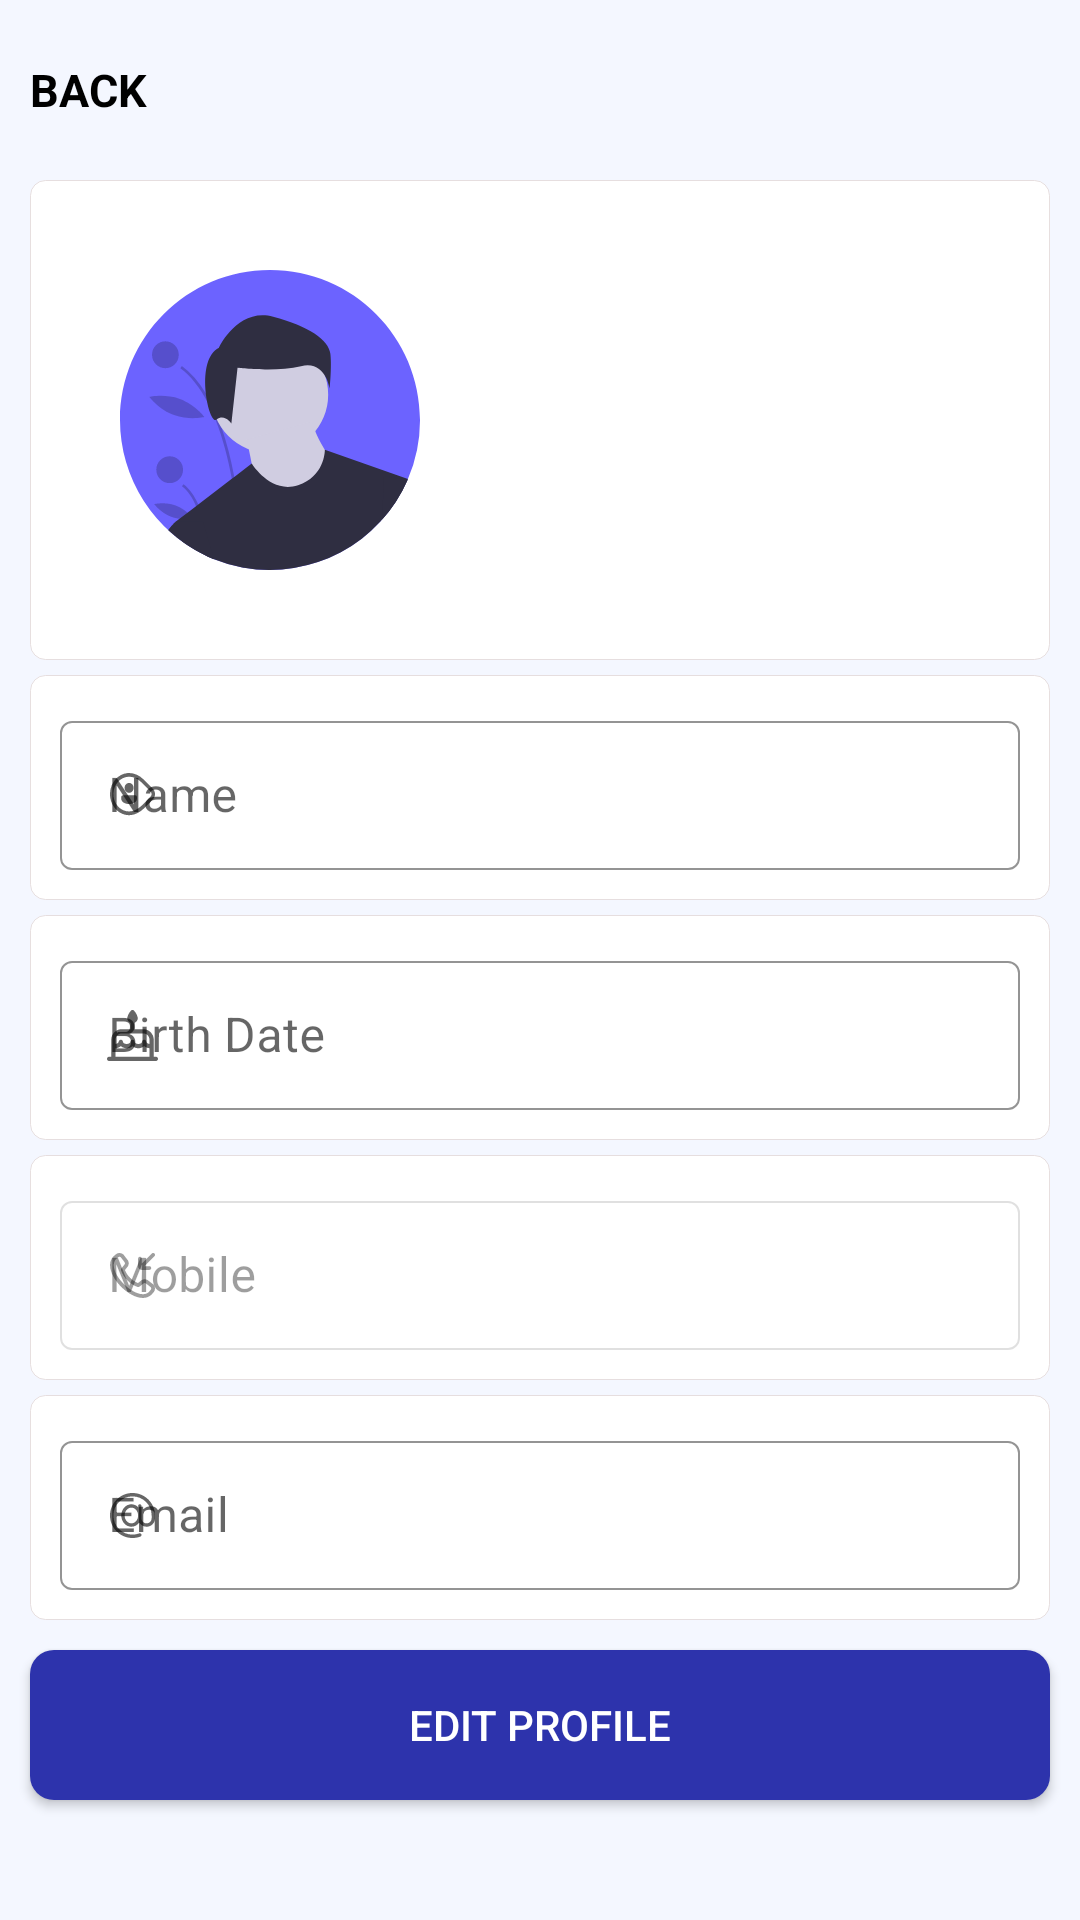

Icon bounding boxes for this 1080w x 1920h phone screenshot, format (x1, y1, x2, y2):
avtar: (120, 270, 420, 570)
